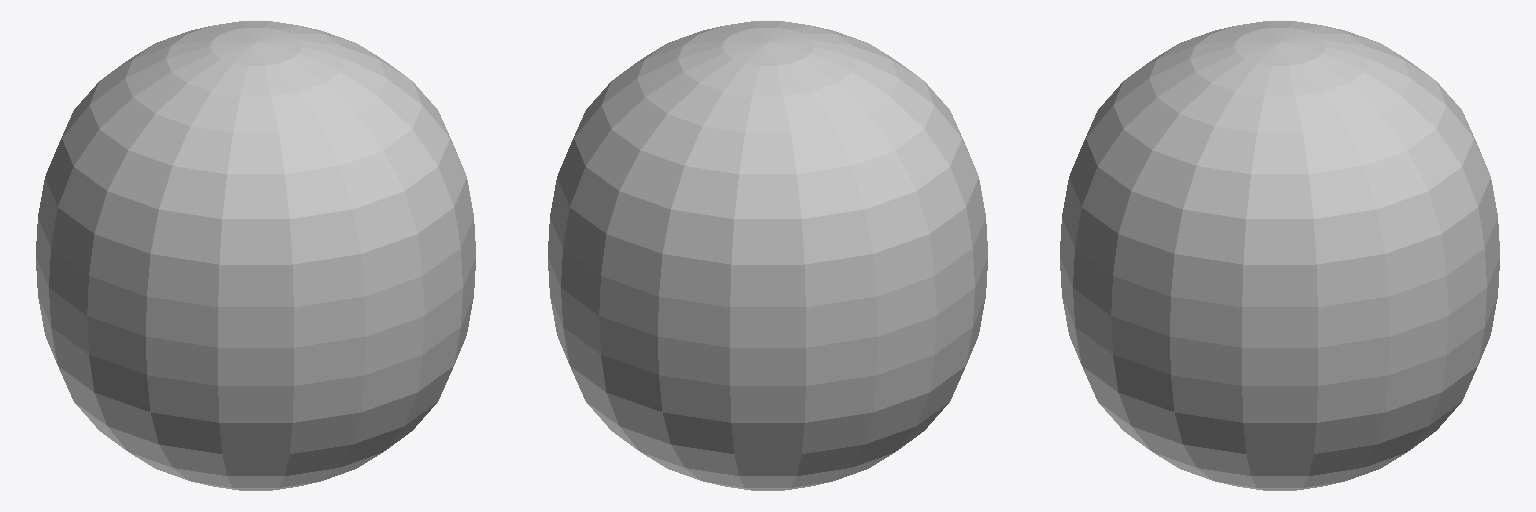
Rendered from kiwifruit.obj.
3 renders of one model, left to right at view 1: azimuth 30°, elevation 25°; view 2: azimuth 150°, elevation 25°; view 3: azimuth 270°, elevation 25°, orthographic.
Visible parts, largest first — view 1: Sphere; view 2: Sphere; view 3: Sphere.
Part boxes in pixels (x1,y1,x2,y2): Sphere: (36, 21, 475, 490); Sphere: (548, 21, 987, 490); Sphere: (1060, 21, 1499, 490).
Bounding box in the file's own units: 2.03 × 2.2 × 2.06.